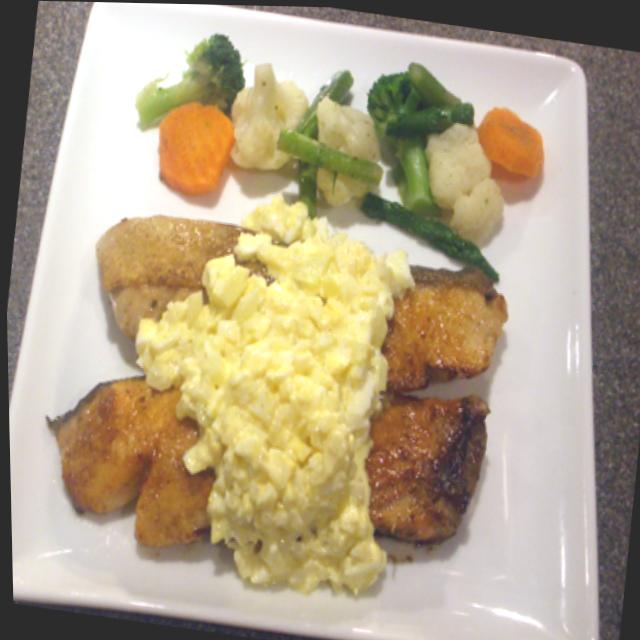熟制海鲜: (22, 172, 542, 613)
